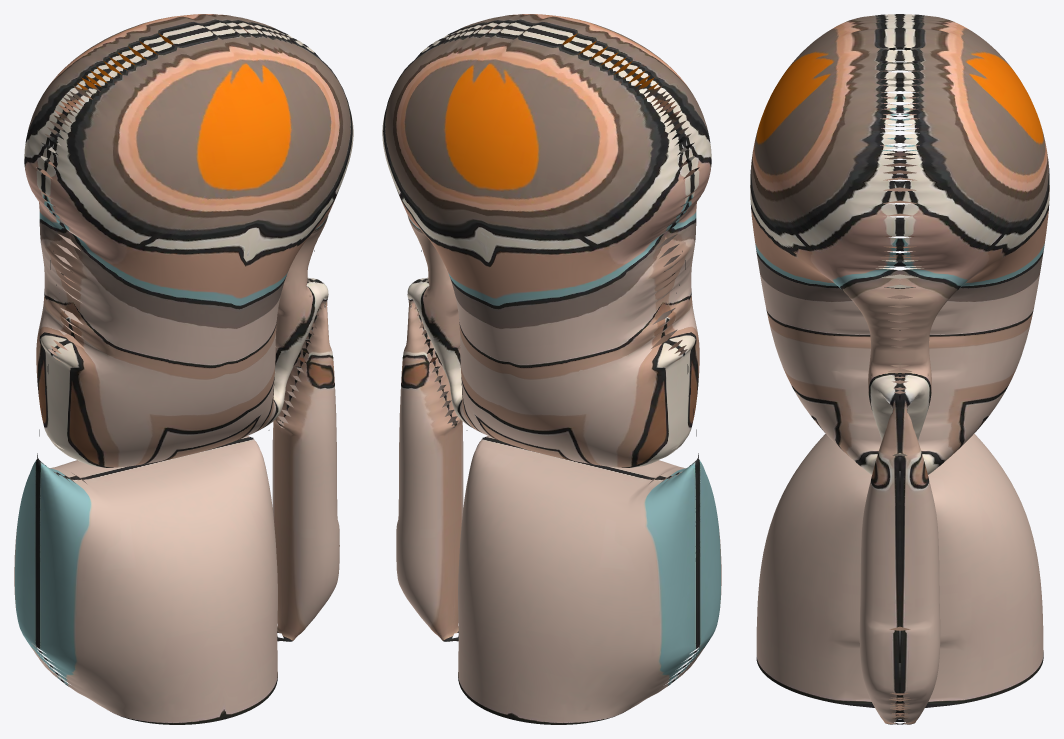
The model's file is control_pedestal.glb.
3 renders of one model, left to right at view 1: azimuth 30°, elevation 25°; view 2: azimuth 150°, elevation 25°; view 3: azimuth 270°, elevation 25°, orthographic.
Visible parts, largest first — view 1: control_pedestal; view 2: control_pedestal; view 3: control_pedestal.
Part boxes in pixels (bbox=[...]): control_pedestal: bbox=[14, 14, 353, 724]; control_pedestal: bbox=[382, 14, 721, 724]; control_pedestal: bbox=[750, 14, 1049, 724].
Bounding box in the file's own units: 0.9806 × 1.96 × 0.8357.
1 material, 1 textured.
